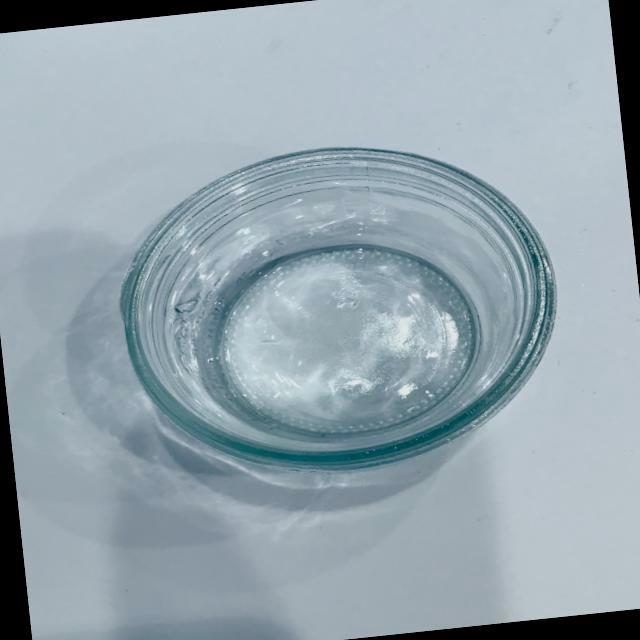glass: (90, 118, 584, 504)
